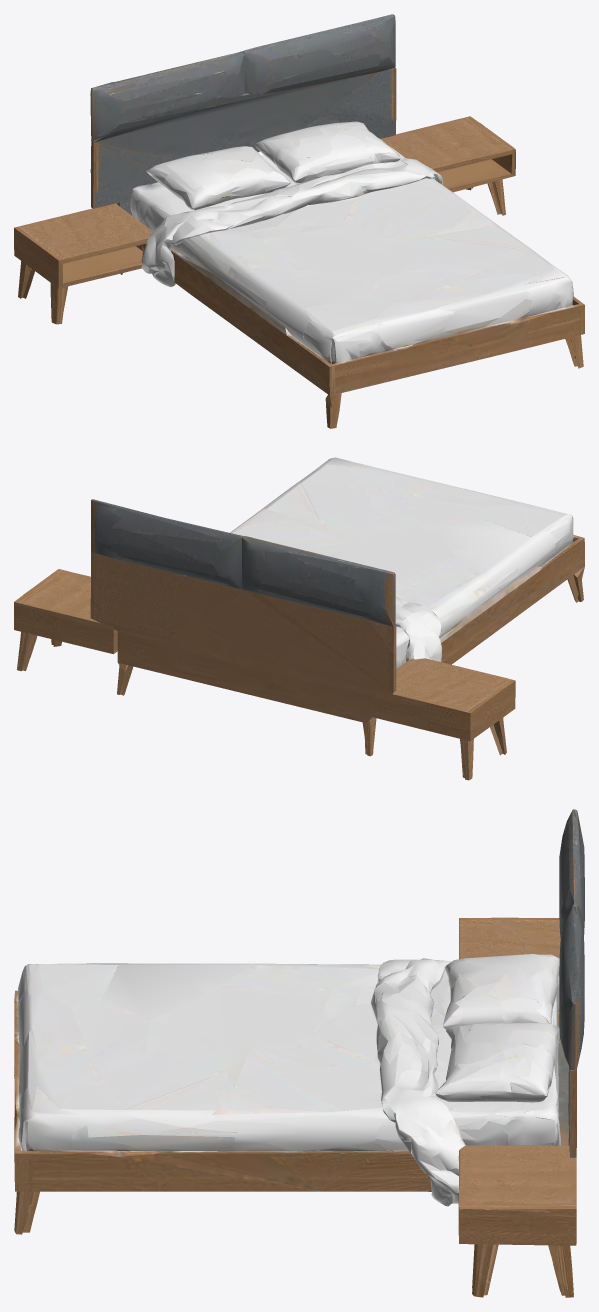
The model's file is bed120.glb.
3 views of the same model, one above another, from view 1: azimuth 30°, elevation 25°; view 2: azimuth 150°, elevation 25°; view 3: azimuth 270°, elevation 25° (orthographic). The views are drawn at different scales.
Parts seen in each view (by area): view 1: bed120; view 2: bed120; view 3: bed120.
Boxes of the visible parts, x1,y1,x2,y2 form: bed120: (14, 14, 584, 428); bed120: (14, 457, 584, 780); bed120: (14, 809, 584, 1297).
Bounding box in the file's own units: 2.42 × 0.9616 × 2.
Materials: 1 (1 with a texture image).
